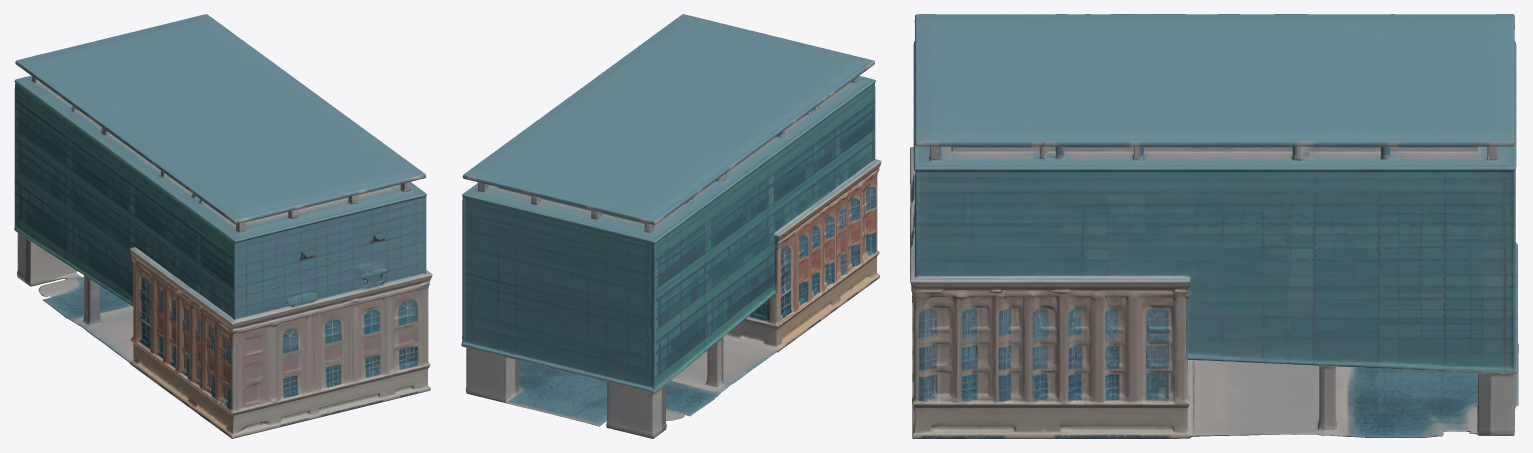
The model's file is wisdom.glb.
3 renders of one model, left to right at view 1: azimuth 30°, elevation 25°; view 2: azimuth 150°, elevation 25°; view 3: azimuth 270°, elevation 25°, orthographic. The views are drawn at different scales.
Visible parts, largest first — view 1: tripo_node_33b53fcd-93be-4378-8891-1ecd2885e6b6; view 2: tripo_node_33b53fcd-93be-4378-8891-1ecd2885e6b6; view 3: tripo_node_33b53fcd-93be-4378-8891-1ecd2885e6b6.
Part boxes in pixels (x1=…): tripo_node_33b53fcd-93be-4378-8891-1ecd2885e6b6: x1=14, y1=14, x2=432, y2=438; tripo_node_33b53fcd-93be-4378-8891-1ecd2885e6b6: x1=461, y1=14, x2=881, y2=438; tripo_node_33b53fcd-93be-4378-8891-1ecd2885e6b6: x1=910, y1=14, x2=1518, y2=438.
Bounding box in the file's own units: 0.522 × 0.5407 × 0.9999.
Materials: 1 (1 with a texture image).
